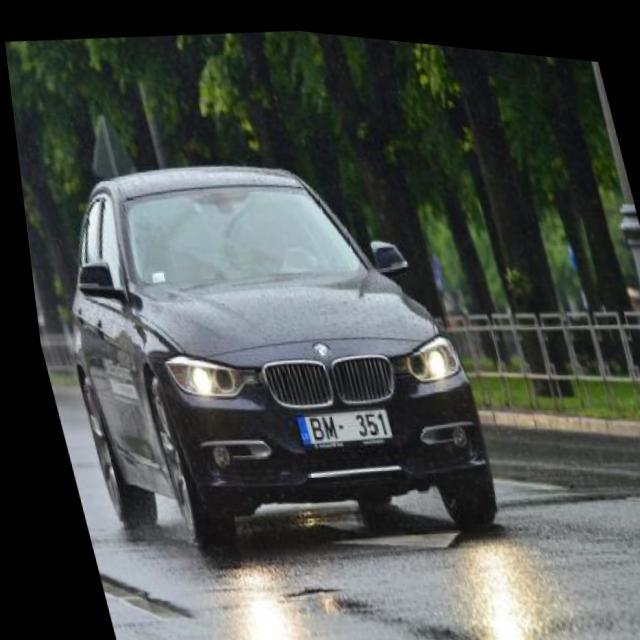license_plate: (281, 391, 386, 453)
